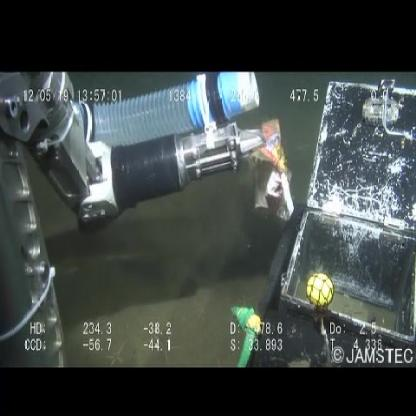Rov: (1, 74, 247, 315), (287, 71, 416, 338)
Rác: (247, 118, 301, 231)
